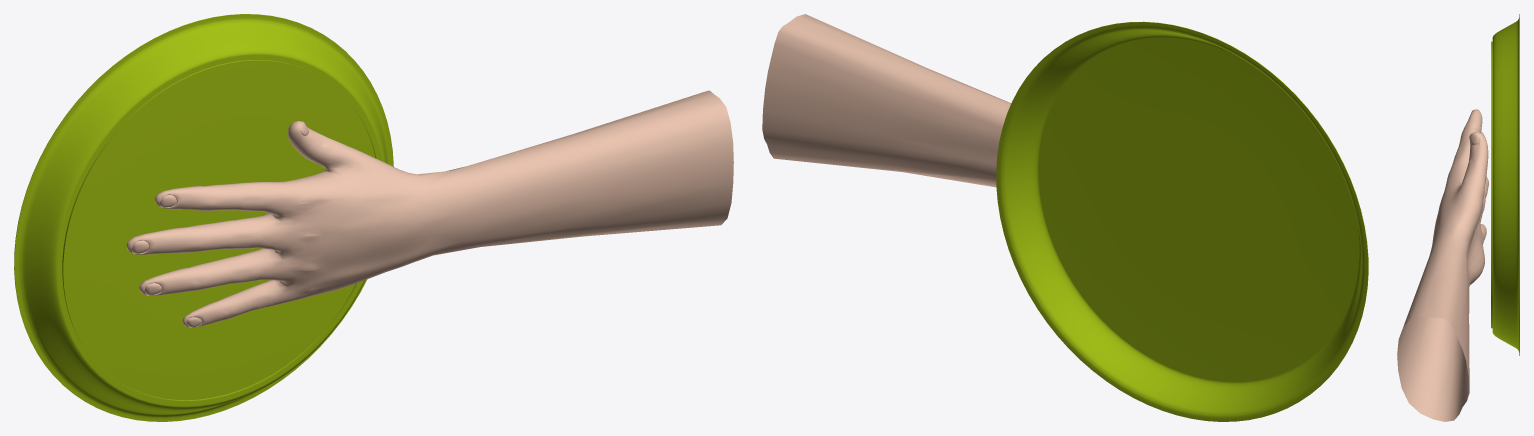
The model's file is HandandTray 1.fbx.
3 views of the same model, side by side, from view 1: azimuth 30°, elevation 25°; view 2: azimuth 150°, elevation 25°; view 3: azimuth 270°, elevation 25° (orthographic). The views are drawn at different scales.
Parts seen in each view (by area): view 1: hand; view 2: hand; view 3: hand.
Part boxes in pixels (left/top/right/bottom): hand: left=14, top=14, right=733, bottom=421; hand: left=762, top=14, right=1368, bottom=421; hand: left=1397, top=14, right=1519, bottom=421.
Size of the model in its own units: 832 by 486 by 174.
